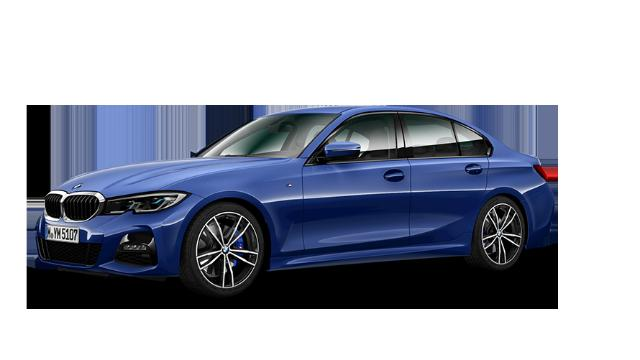bmw: (34, 105, 556, 298)
